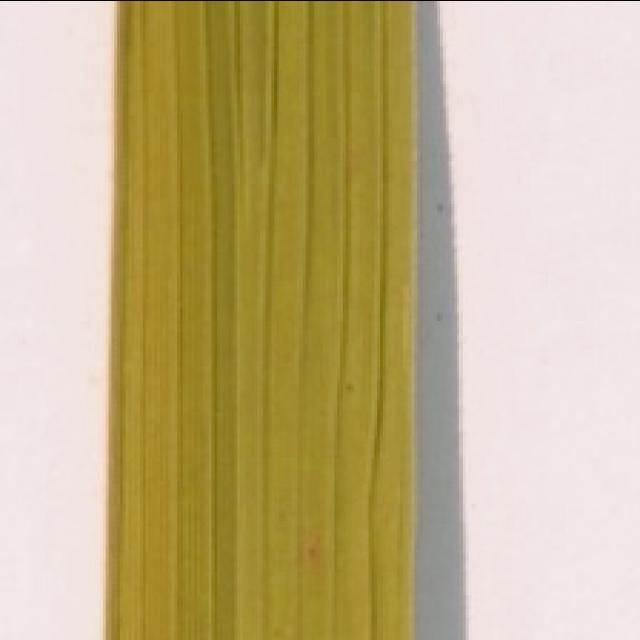Unhealthy: (304, 539, 321, 563)
